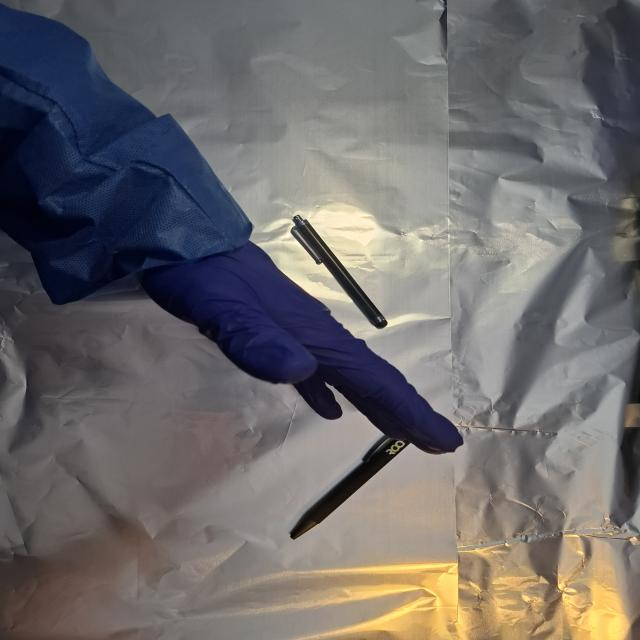glove_on: (140, 238, 467, 457)
